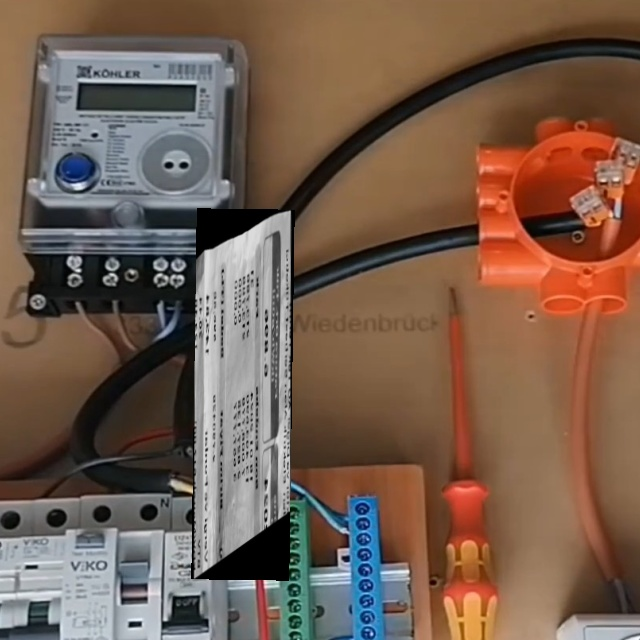electricity-bill: (190, 208, 294, 580)
